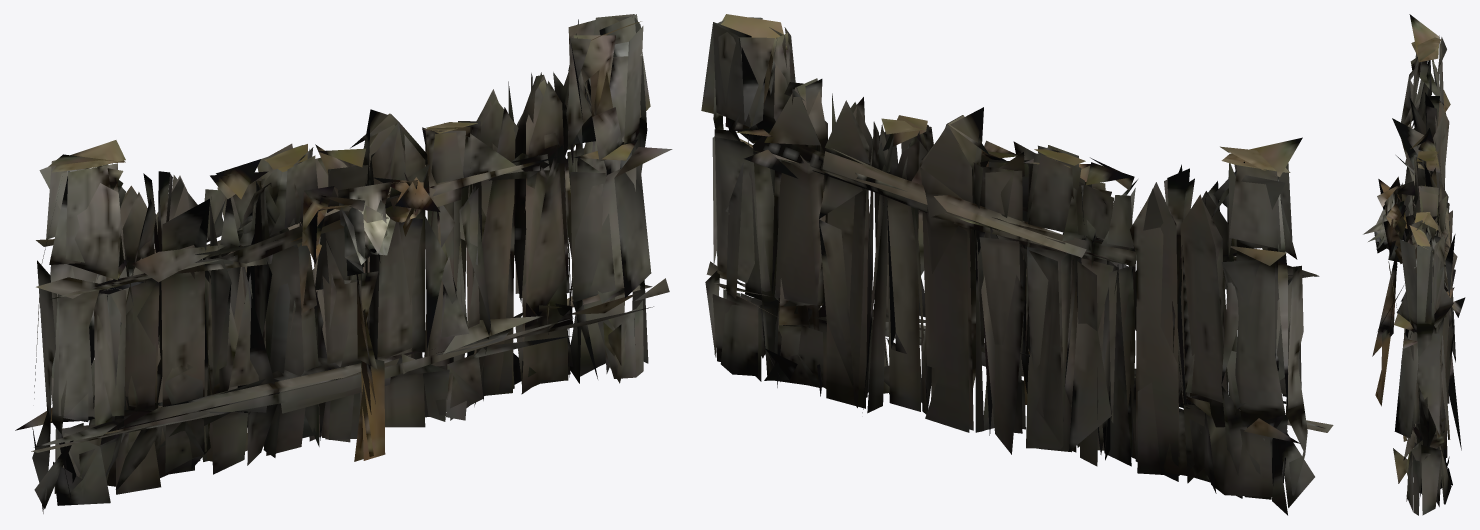
The model's file is goblin_palisade_b_lod.glb.
3 views of the same model, side by side, from view 1: azimuth 30°, elevation 25°; view 2: azimuth 150°, elevation 25°; view 3: azimuth 270°, elevation 25° (orthographic). The views are drawn at different scales.
Parts seen in each view (by area): view 1: goblin_palisade_b; view 2: goblin_palisade_b; view 3: goblin_palisade_b.
Part boxes in pixels (box(x1,y1,x2,y2)): goblin_palisade_b: box(15, 14, 672, 513); goblin_palisade_b: box(701, 14, 1333, 515); goblin_palisade_b: box(1363, 14, 1465, 515).
Bounding box in the file's own units: 5.02 × 2.81 × 0.9103.
Materials: 1 (1 with a texture image).
